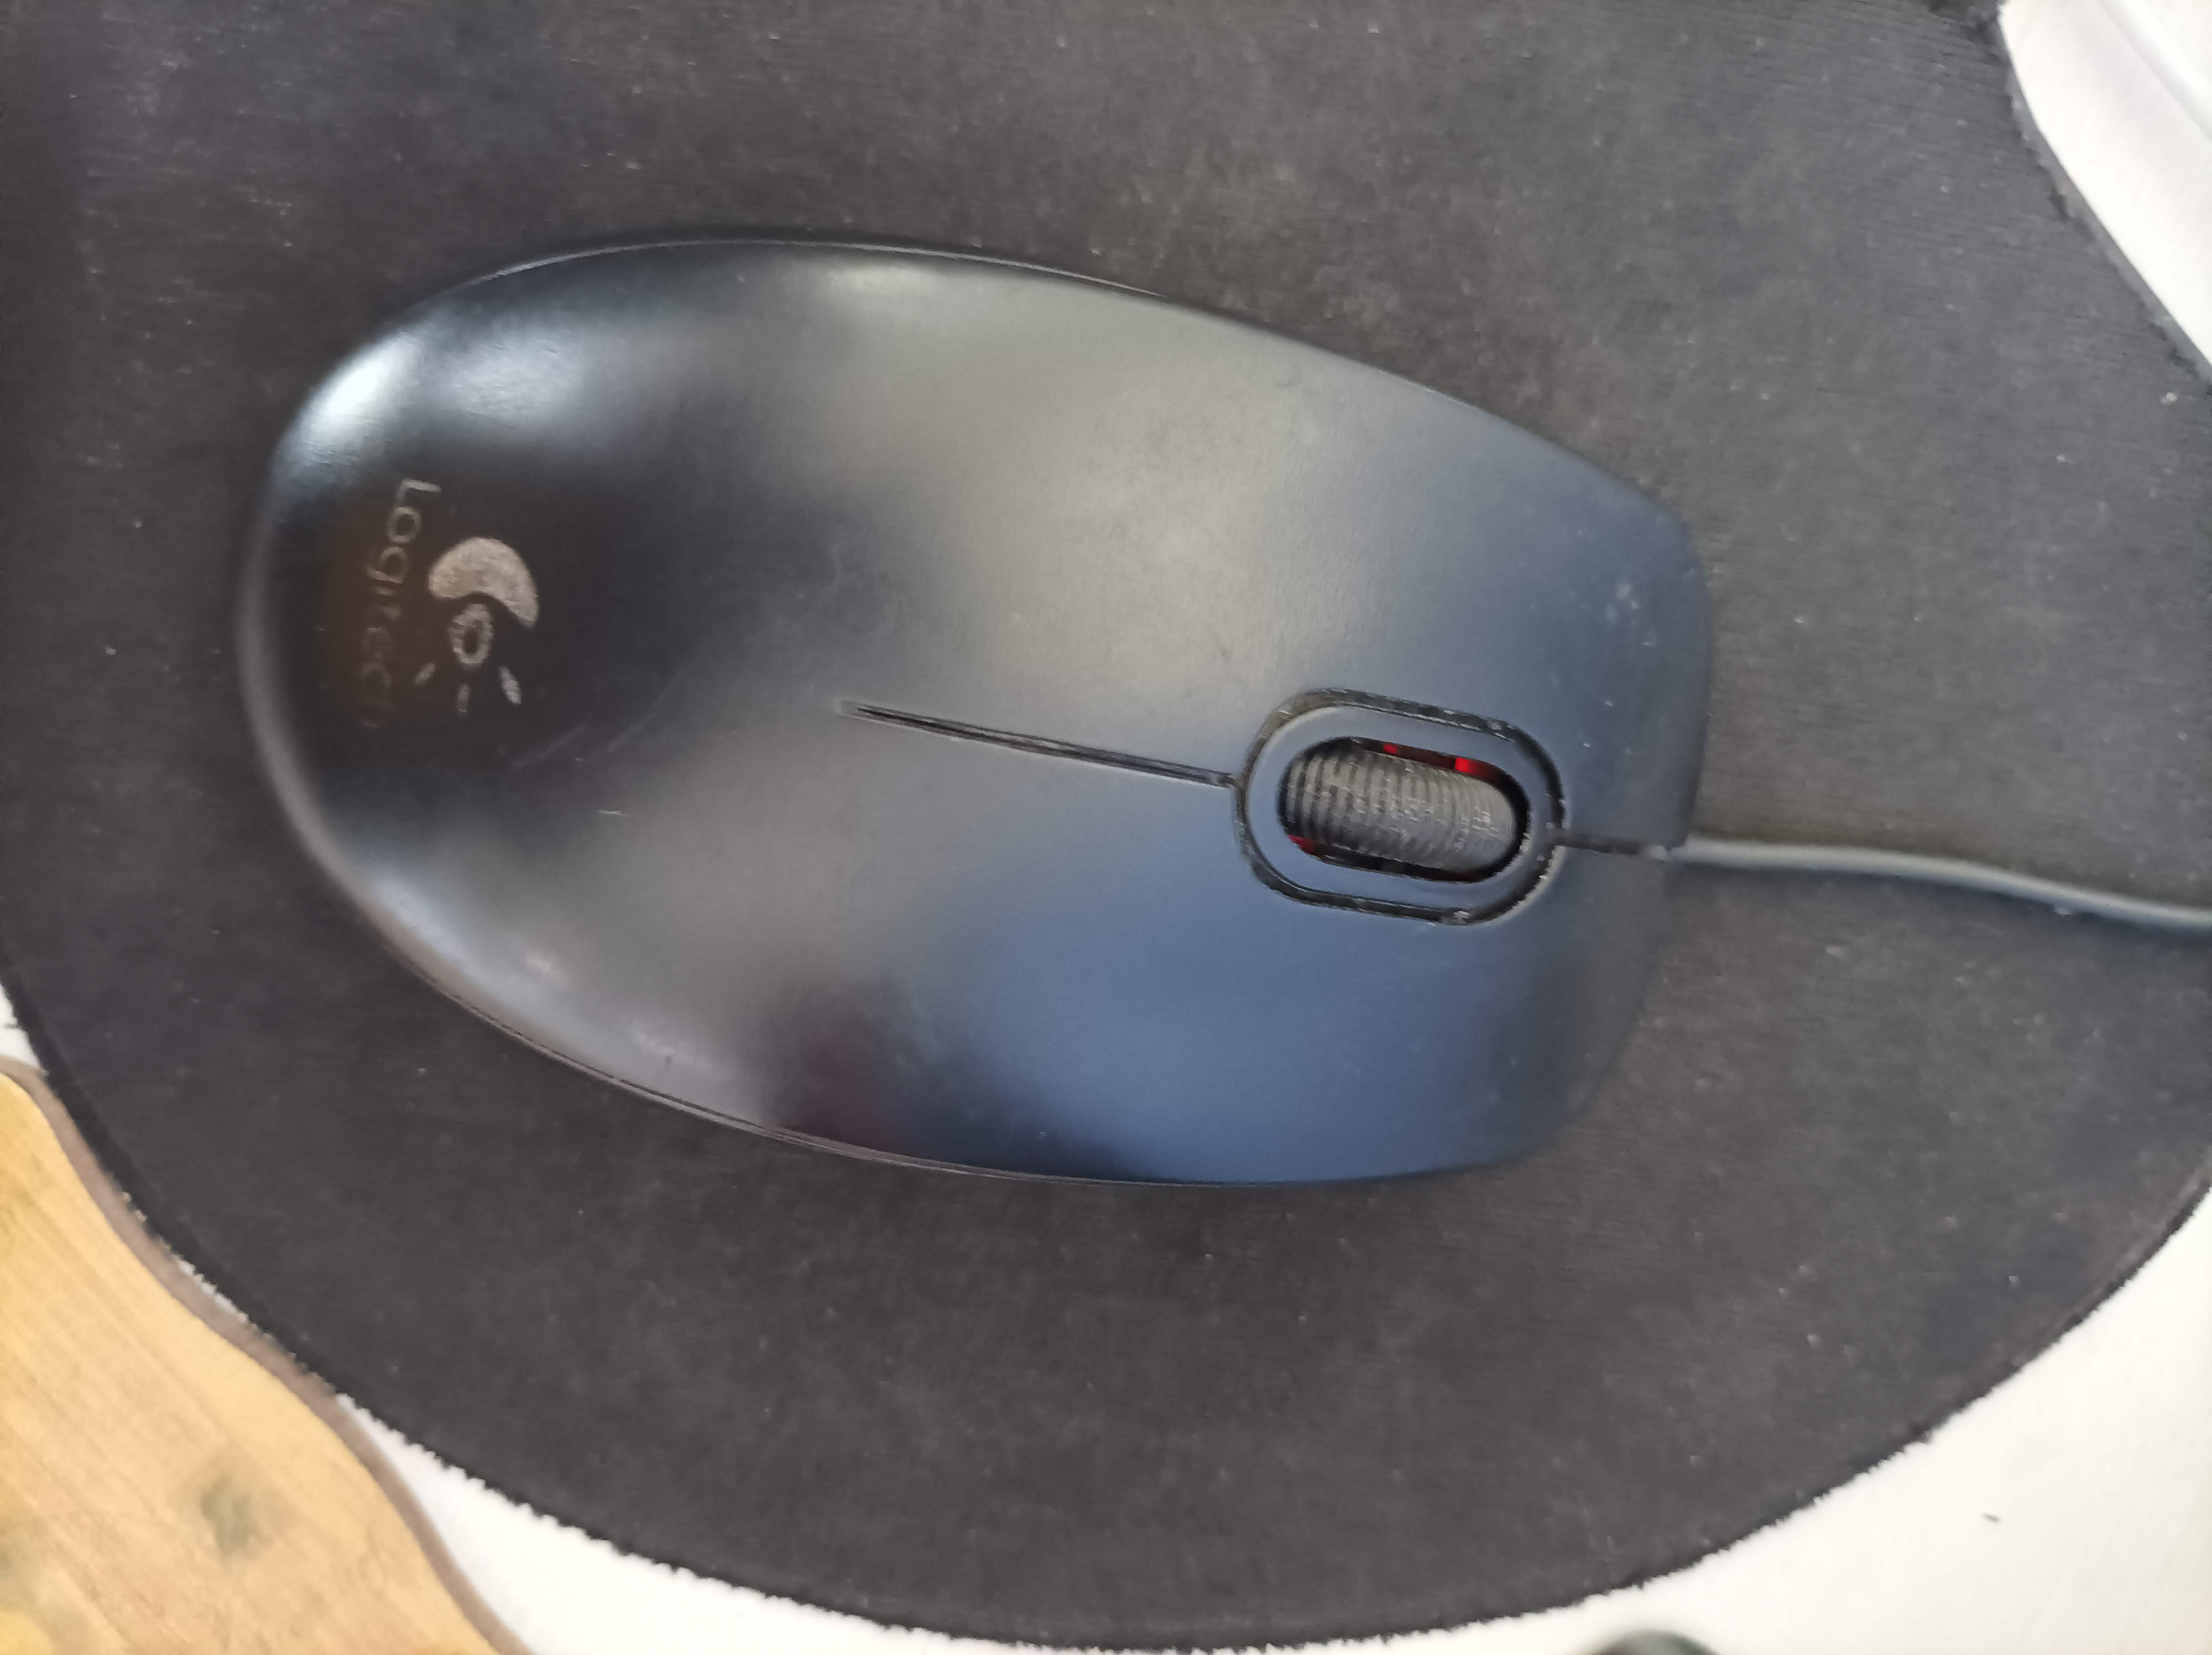mouse: (215, 207, 1729, 1210)
